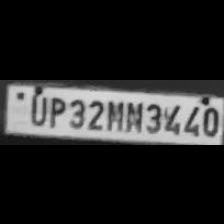0: (199, 102, 219, 136)
2: (85, 95, 105, 129)
3: (66, 94, 86, 128), (144, 99, 162, 133)
4: (180, 100, 200, 134), (162, 100, 180, 134)
M: (122, 97, 142, 132), (104, 97, 122, 131)
P: (46, 93, 66, 127)
U: (26, 91, 46, 125)
